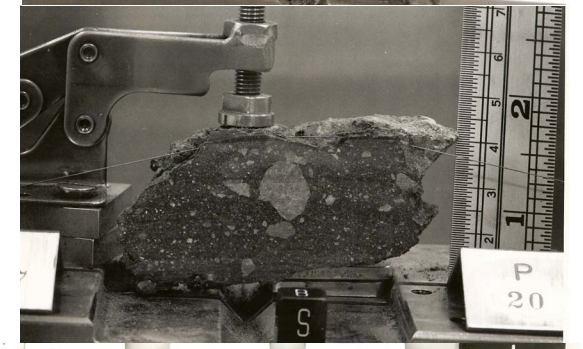Breccia: (119, 120, 472, 284)
